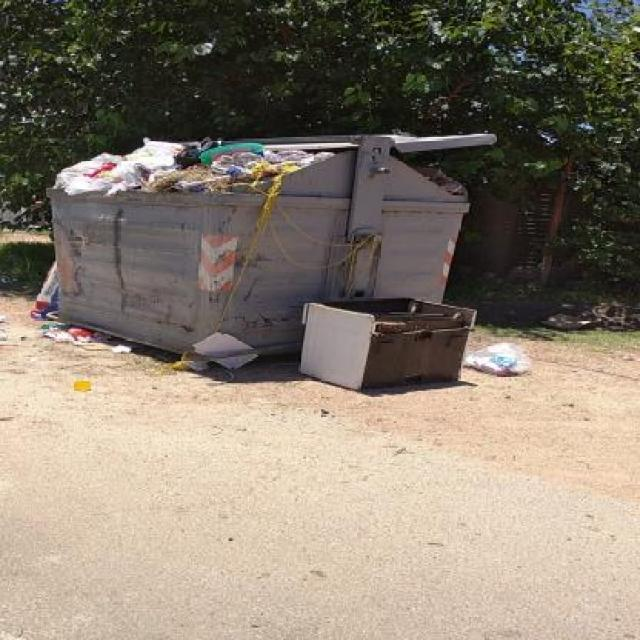garbage: (0, 122, 563, 426)
